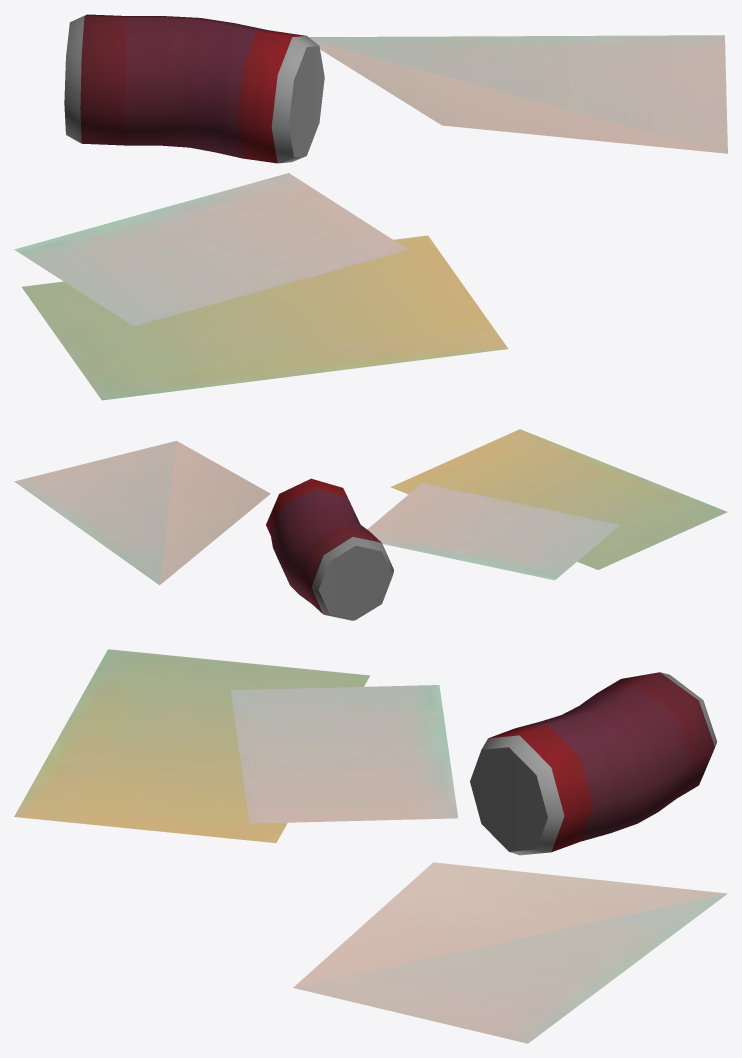
The model's file is floor-trash.glb.
The picture shows the model from 3 angles, top to bottom: view 1: azimuth 30°, elevation 25°; view 2: azimuth 150°, elevation 25°; view 3: azimuth 270°, elevation 25°; orthographic projection. The views are drawn at different scales.
Visible parts, largest first — view 1: floor_trash; view 2: floor_trash; view 3: floor_trash.
Part boxes in pixels (bbox=[...]): floor_trash: bbox=[14, 14, 727, 400]; floor_trash: bbox=[14, 429, 727, 620]; floor_trash: bbox=[14, 649, 727, 1043].
Bounding box in the file's own units: 2.17 × 0.3071 × 1.66.
1 material, 1 textured.
